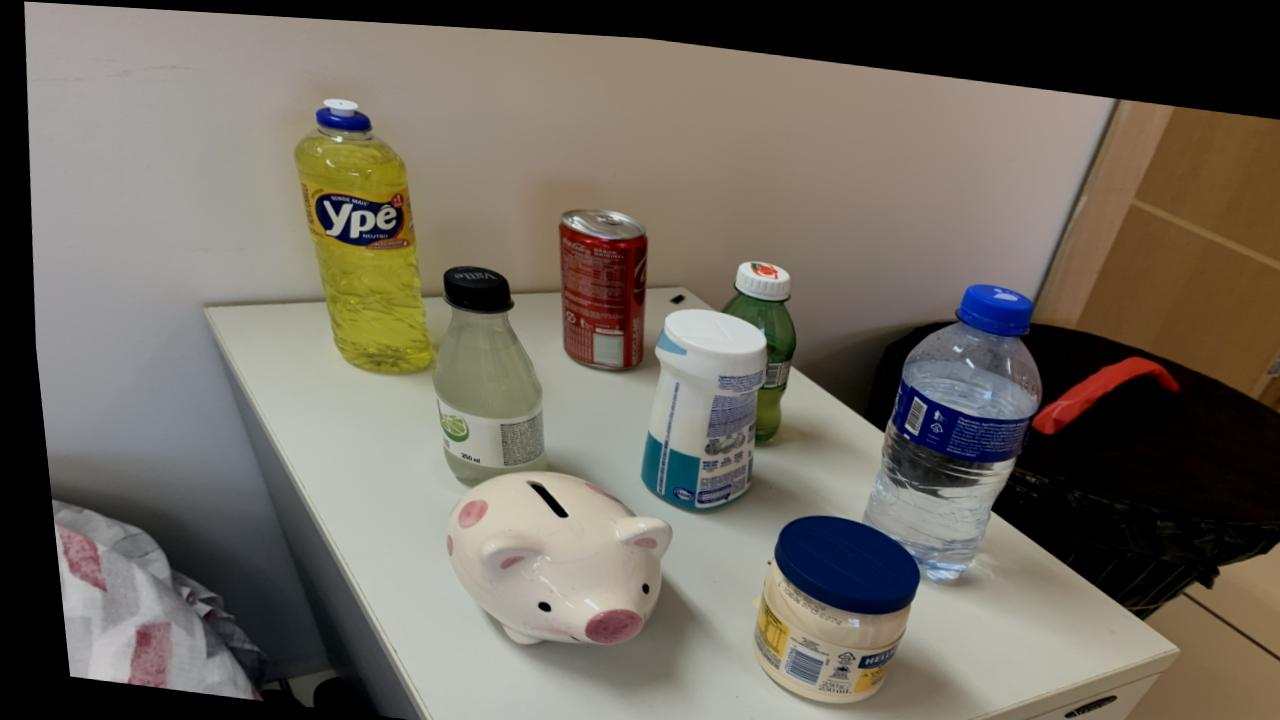Cleaner-Cleanup_Items: (633, 300, 759, 503)
Coke-Drinks: (555, 201, 643, 362), (784, 312, 786, 316)
Detergent-Cleanup_Items: (291, 94, 424, 369)
Guarana-Drinks: (716, 251, 789, 432)
Mayonnaise-Pantry_Items: (740, 505, 907, 694)
Pig_Safe-Miscellaneous: (435, 464, 661, 639)
Soda-Drinks: (424, 259, 537, 480)
Water_Bottle-Drinks: (854, 271, 1035, 569)
